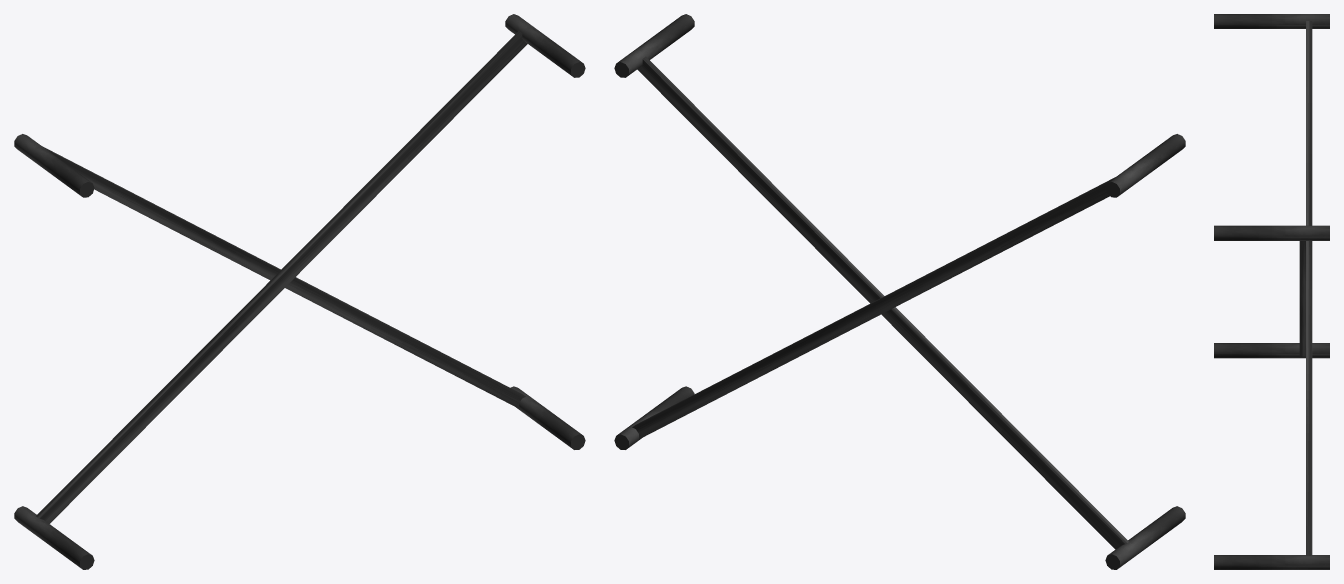
Rendered from PianoStand.obj.
The picture shows the model from 3 angles, left to right: view 1: azimuth 30°, elevation 25°; view 2: azimuth 150°, elevation 25°; view 3: azimuth 270°, elevation 25°; orthographic projection. The views are drawn at different scales.
Visible parts, largest first — view 1: Converted object 0; view 2: Converted object 0; view 3: Converted object 0.
Boxes of the visible parts, x1=… form: Converted object 0: x1=14, y1=14, x2=585, y2=569; Converted object 0: x1=614, y1=14, x2=1185, y2=569; Converted object 0: x1=1214, y1=14, x2=1329, y2=569.
Size of the model in its own units: 41.76 by 30.61 by 9.38.
